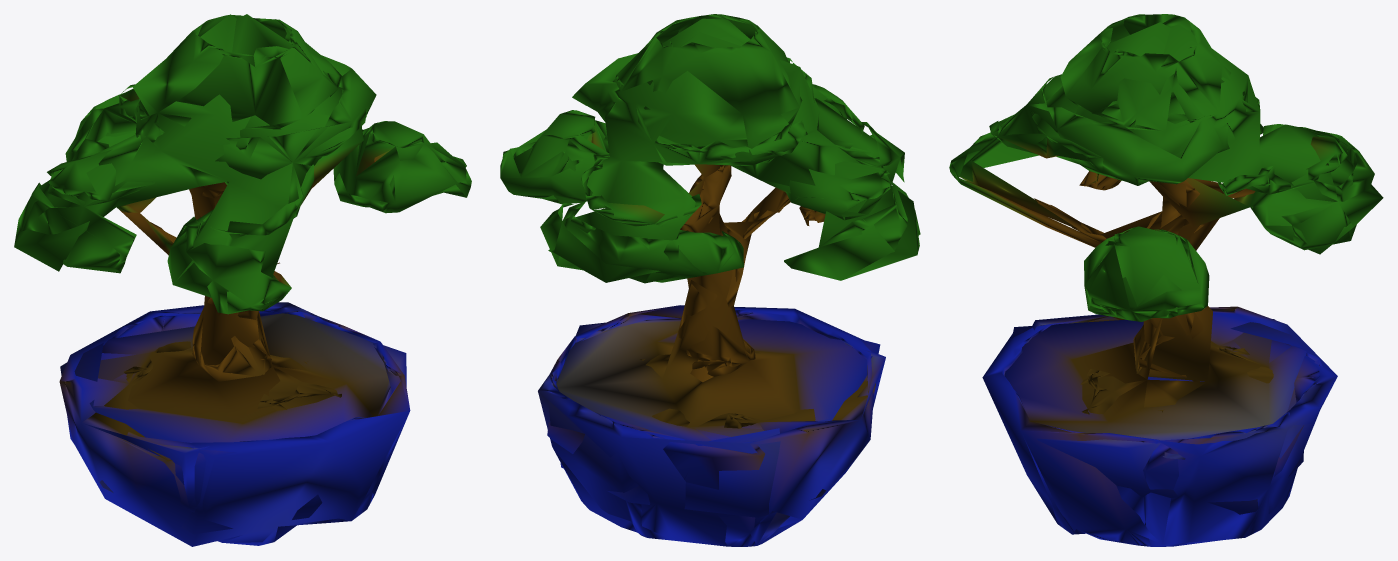
Rendered from gen3d-bonsai-tree-lod0.glb.
3 views of the same model, side by side, from view 1: azimuth 30°, elevation 25°; view 2: azimuth 150°, elevation 25°; view 3: azimuth 270°, elevation 25° (orthographic). The views are drawn at different scales.
Visible parts, largest first — view 1: part_0; view 2: part_0; view 3: part_0.
Boxes of the visible parts, left/top/right/bottom form: part_0: left=14, top=14, right=471, bottom=546; part_0: left=500, top=14, right=920, bottom=546; part_0: left=949, top=14, right=1383, bottom=546.
Bounding box in the file's own units: 0.942 × 1 × 0.8206.
